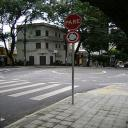Rotatoria: (62, 30, 82, 44)
